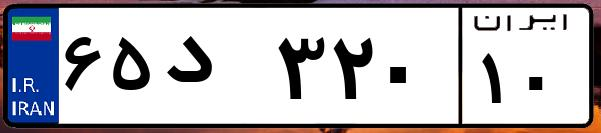0: (385, 28, 445, 110), (525, 38, 570, 115)
1: (475, 38, 525, 113)
2: (330, 28, 385, 110)
3: (270, 28, 330, 110)
5: (110, 28, 158, 98)
6: (57, 26, 110, 100)
د: (158, 20, 270, 120)
